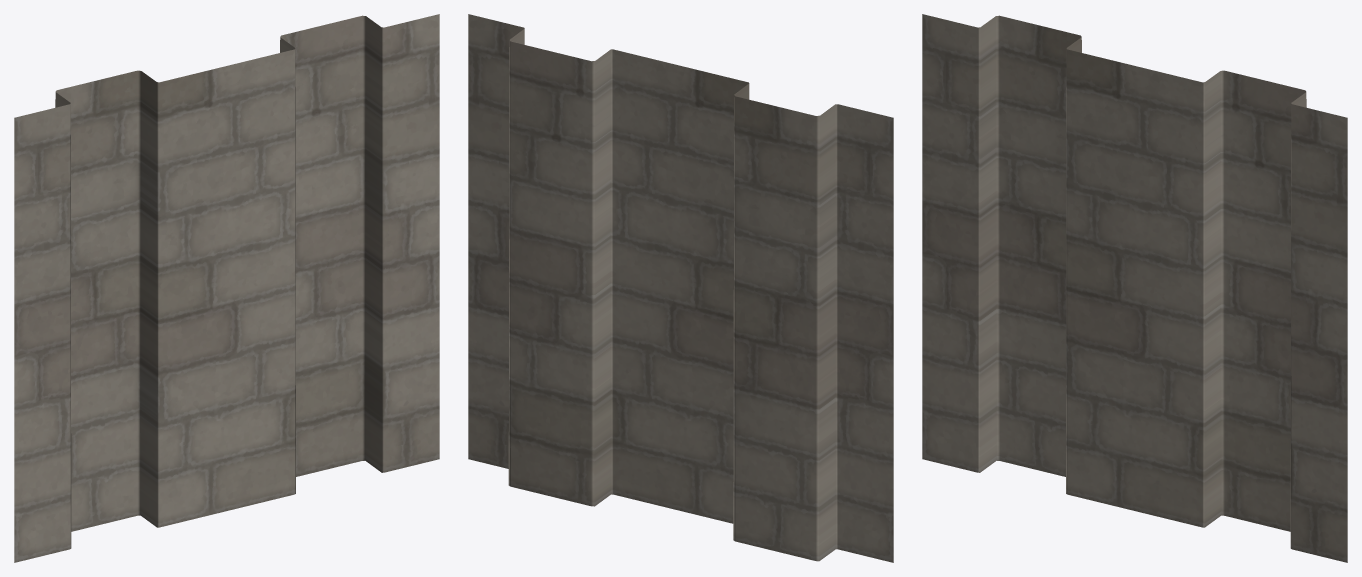
File: Wall_IndentMain.fbx
3 renders of one model, left to right at view 1: azimuth 30°, elevation 25°; view 2: azimuth 150°, elevation 25°; view 3: azimuth 330°, elevation 25°, orthographic.
Visible parts, largest first — view 1: Wall_IndentMain; view 2: Wall_IndentMain; view 3: Wall_IndentMain.
Boxes of the visible parts, x1,y1,x2,y2 form: Wall_IndentMain: (14, 14, 439, 562); Wall_IndentMain: (468, 14, 893, 562); Wall_IndentMain: (922, 14, 1347, 562).
Size of the model in its own units: 500 by 500 by 35.77.
Materials: 1 (1 with a texture image).
